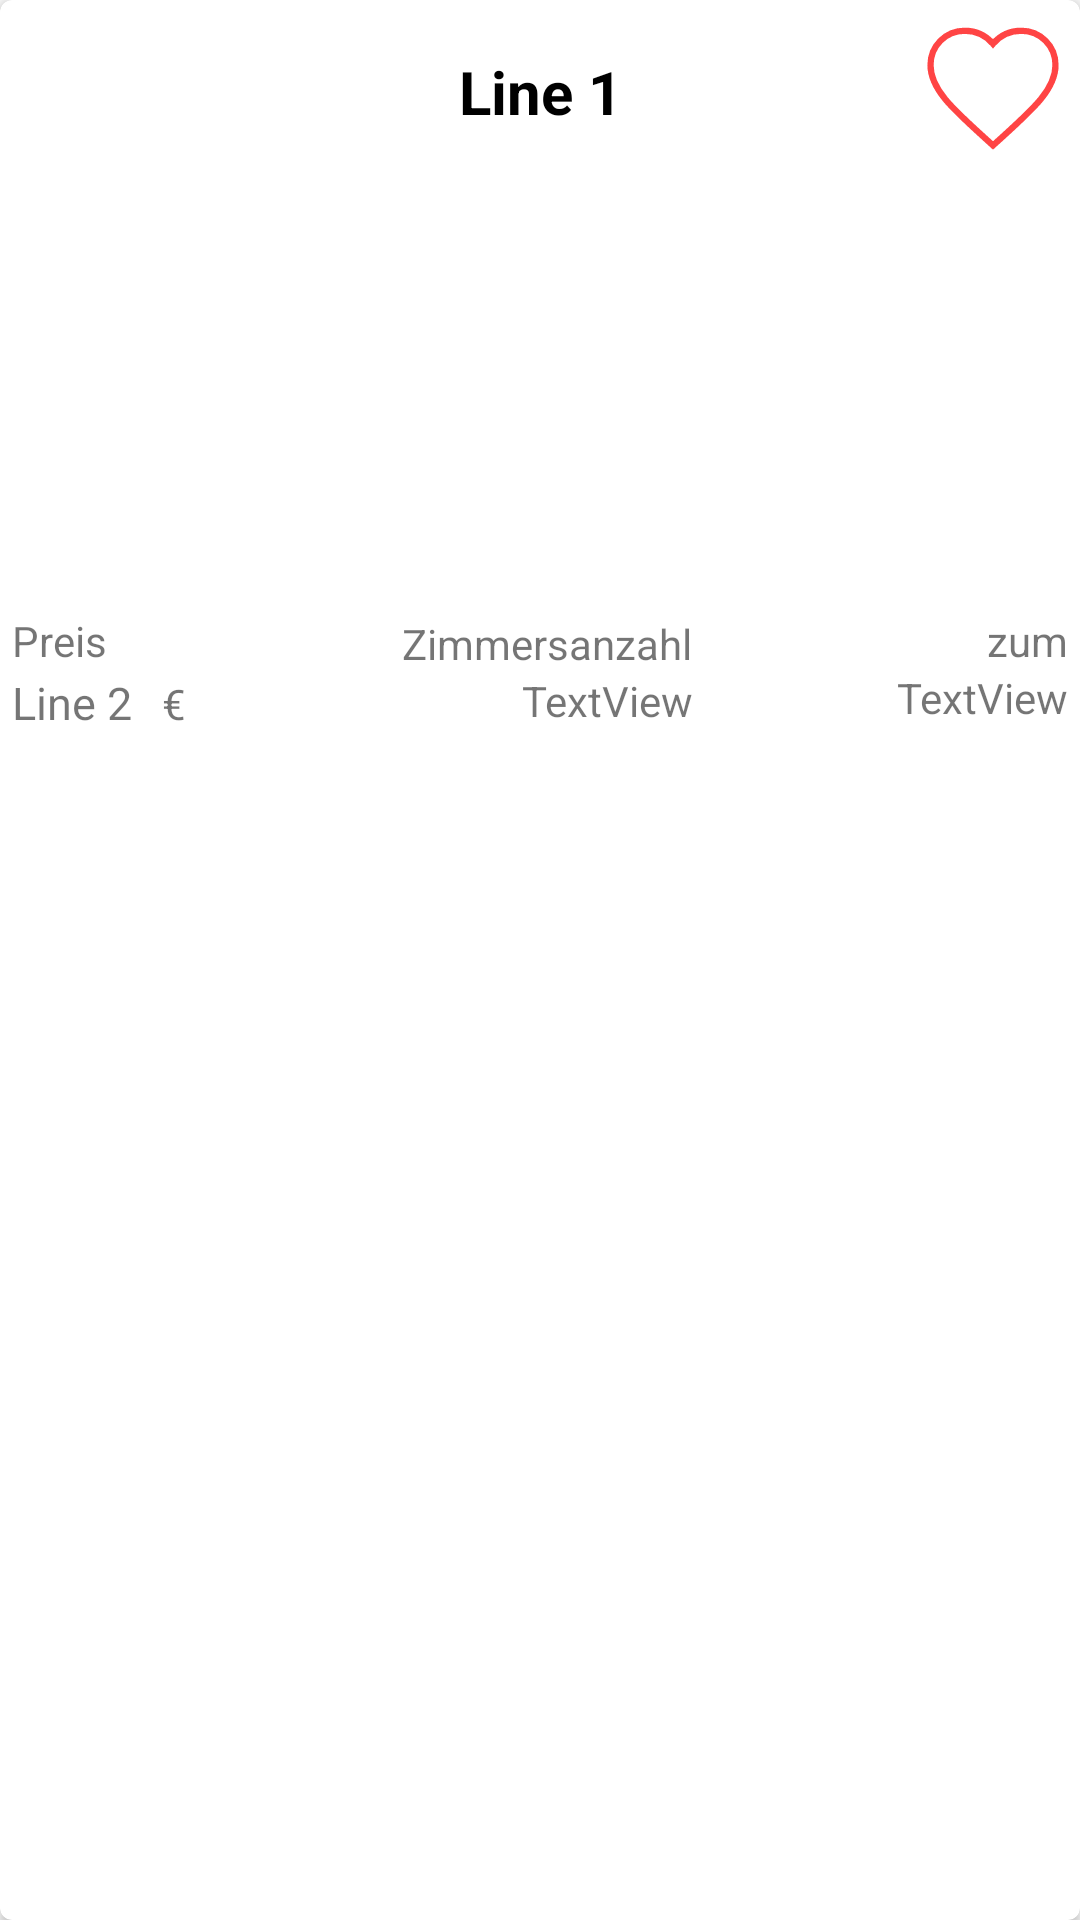

Screen size 1080w x 1920h. Icon name, then its box in pixels as [left=x1, top=y1, right=x2, bottom=y2]:
heart: [left=927, top=27, right=1059, bottom=150]
